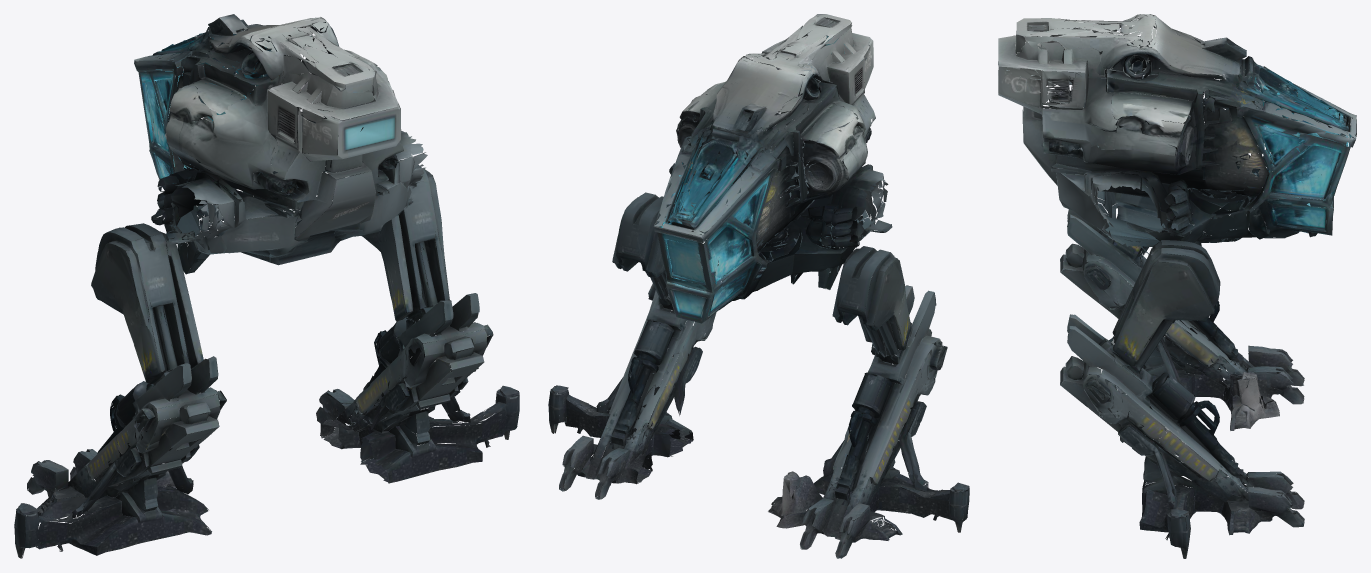
File: light_cc59ad.glb
3 views of the same model, side by side, from view 1: azimuth 30°, elevation 25°; view 2: azimuth 150°, elevation 25°; view 3: azimuth 270°, elevation 25° (orthographic). The views are drawn at different scales.
Parts seen in each view (by area): view 1: hull, shin_r, shin_l, thigh_l, foot_l, foot_r, thigh_r; view 2: hull, shin_l, shin_r, foot_l, foot_r, thigh_l, thigh_r; view 3: hull, shin_r, thigh_r, foot_r, shin_l, foot_l.
Part boxes in pixels (x1=…): hull: x1=121, y1=14, x2=427, y2=535; shin_r: x1=353, y1=293, x2=519, y2=433; shin_l: x1=16, y1=356, x2=220, y2=514; thigh_l: x1=91, y1=216, x2=203, y2=387; foot_l: x1=14, y1=449, x2=188, y2=558; foot_r: x1=316, y1=382, x2=519, y2=483; thigh_r: x1=361, y1=160, x2=449, y2=323; hull: x1=653, y1=14, x2=892, y2=528; shin_l: x1=830, y1=285, x2=969, y2=492; shin_r: x1=550, y1=283, x2=716, y2=434; foot_l: x1=800, y1=459, x2=969, y2=558; foot_r: x1=548, y1=388, x2=693, y2=499; thigh_l: x1=832, y1=233, x2=914, y2=355; thigh_r: x1=612, y1=192, x2=688, y2=299; hull: x1=998, y1=14, x2=1356, y2=430; shin_r: x1=1060, y1=314, x2=1238, y2=517; thigh_r: x1=1105, y1=230, x2=1220, y2=367; foot_r: x1=1139, y1=462, x2=1304, y2=558; shin_l: x1=1060, y1=209, x2=1238, y2=365; foot_l: x1=1142, y1=345, x2=1304, y2=407.
Size of the model in its own units: 3.41 by 3.2 by 2.43.
1 material, 1 textured.
